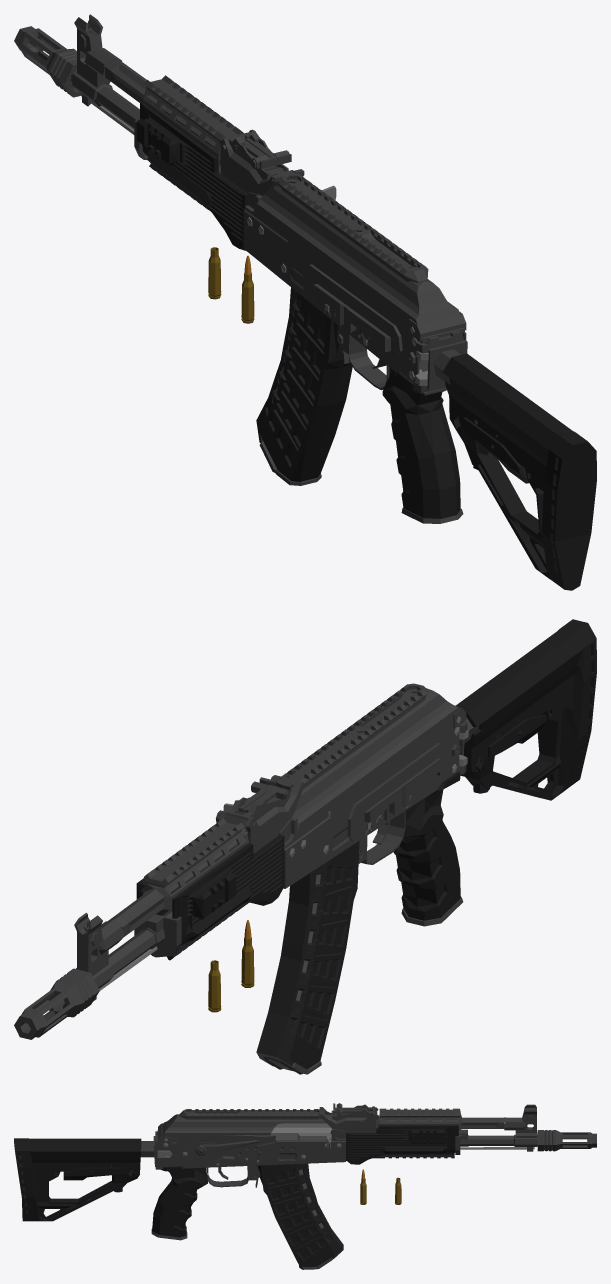
3 renders of one model, top to bottom at view 1: azimuth 30°, elevation 25°; view 2: azimuth 150°, elevation 25°; view 3: azimuth 270°, elevation 25°, orthographic. The views are drawn at different scales.
Parts seen in each view (by area): view 1: stock_22, receiver_7, dust_cover_14, magazine_9, grip_17, handguard_lower_12, Cube.002_16, flash_hider_15, folding_stock_23, rear_sight_8; view 2: receiver_7, stock_22, magazine_9, dust_cover_14, grip_17, handguard_lower_12, Cube.002_16, flash_hider_15, lower_handguard_cover_11, rear_sight_8, casing_545_18, Object_57; view 3: receiver_7, stock_22, magazine_9, dust_cover_14, handguard_lower_12, grip_17, Cube.002_16, safety_selector_3, flash_hider_15, bolt_carrier_19, folding_stock_23, lower_handguard_cover_11 (+1 smaller).
Boxes of the visible parts, bbox=[...] form: stock_22: bbox=[442, 353, 596, 590]; receiver_7: bbox=[70, 14, 466, 395]; dust_cover_14: bbox=[256, 170, 466, 343]; magazine_9: bbox=[256, 287, 352, 485]; grip_17: bbox=[382, 367, 463, 523]; handguard_lower_12: bbox=[136, 102, 248, 250]; Cube.002_16: bbox=[143, 75, 243, 167]; flash_hider_15: bbox=[14, 26, 81, 97]; folding_stock_23: bbox=[415, 340, 467, 390]; rear_sight_8: bbox=[235, 138, 291, 169]; receiver_7: bbox=[74, 721, 467, 1001]; stock_22: bbox=[455, 619, 596, 800]; magazine_9: bbox=[256, 841, 359, 1074]; dust_cover_14: bbox=[276, 683, 466, 831]; grip_17: bbox=[393, 771, 463, 926]; handguard_lower_12: bbox=[136, 835, 284, 960]; Cube.002_16: bbox=[143, 818, 246, 910]; flash_hider_15: bbox=[14, 968, 99, 1039]; lower_handguard_cover_11: bbox=[134, 914, 181, 957]; rear_sight_8: bbox=[239, 777, 291, 814]; casing_545_18: bbox=[208, 960, 221, 1012]; Object_57: bbox=[241, 937, 254, 987]; receiver_7: bbox=[155, 1104, 537, 1187]; stock_22: bbox=[14, 1138, 141, 1221]; magazine_9: bbox=[257, 1163, 343, 1269]; dust_cover_14: bbox=[157, 1109, 331, 1143]; handguard_lower_12: bbox=[346, 1125, 458, 1164]; grip_17: bbox=[151, 1166, 207, 1240]; Cube.002_16: bbox=[379, 1108, 461, 1130]; safety_selector_3: bbox=[193, 1135, 276, 1164]; flash_hider_15: bbox=[537, 1130, 596, 1151]; bolt_carrier_19: bbox=[265, 1123, 331, 1149]; folding_stock_23: bbox=[140, 1136, 155, 1166]; lower_handguard_cover_11: bbox=[455, 1129, 468, 1154].
Bounding box in the file's own units: 0.0782 × 0.2535 × 0.8353.
